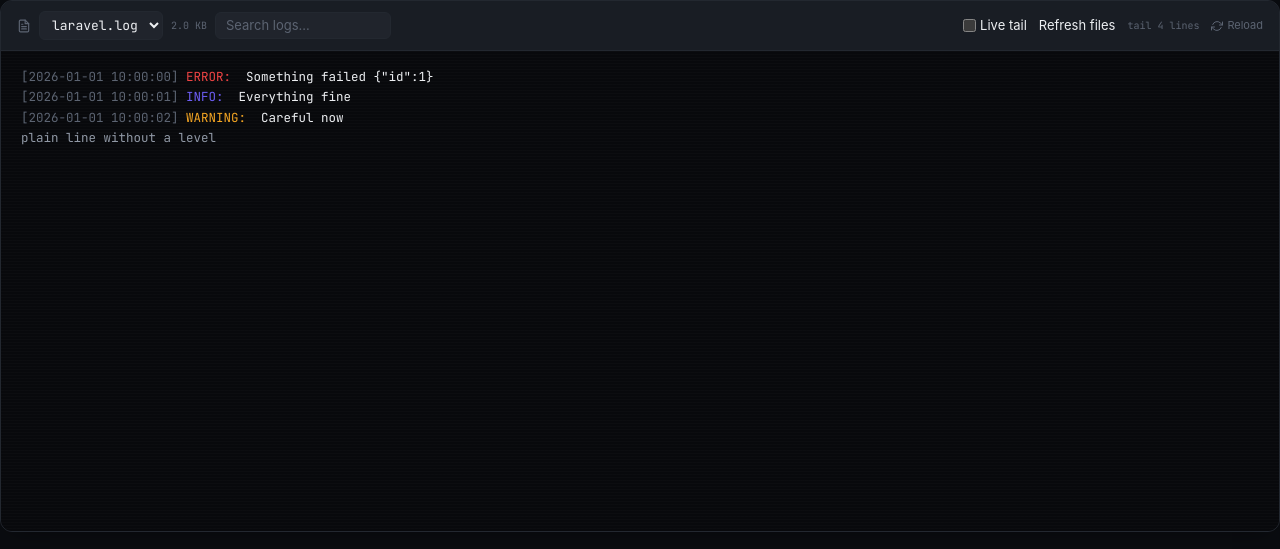
it: LaravelLogsTab › filters lines by search query
Expected: the text "[2026-01-01 10:00:00] ERROR: Something failed {\"id\":1}" is shown, [21,68,434,85]
Type "WARNING" into the search field named "Search Laravel logs" at (303, 26), box [215,12,391,39]
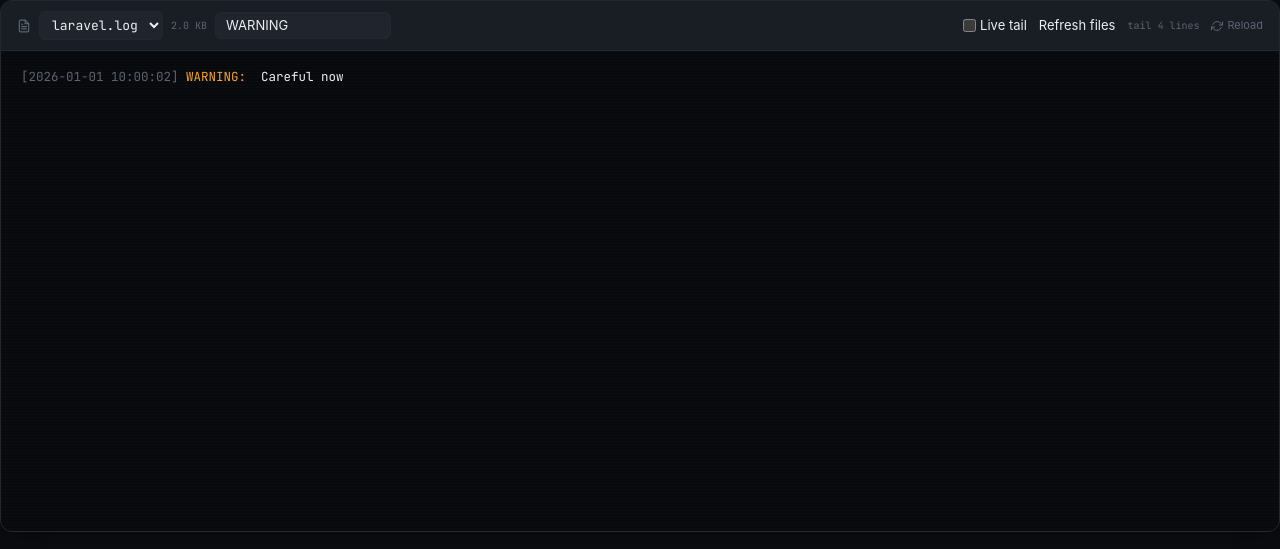
Expected: the text "Careful now" is shown, [254,68,344,85]
Expected: the text "Everything fine" is gone
